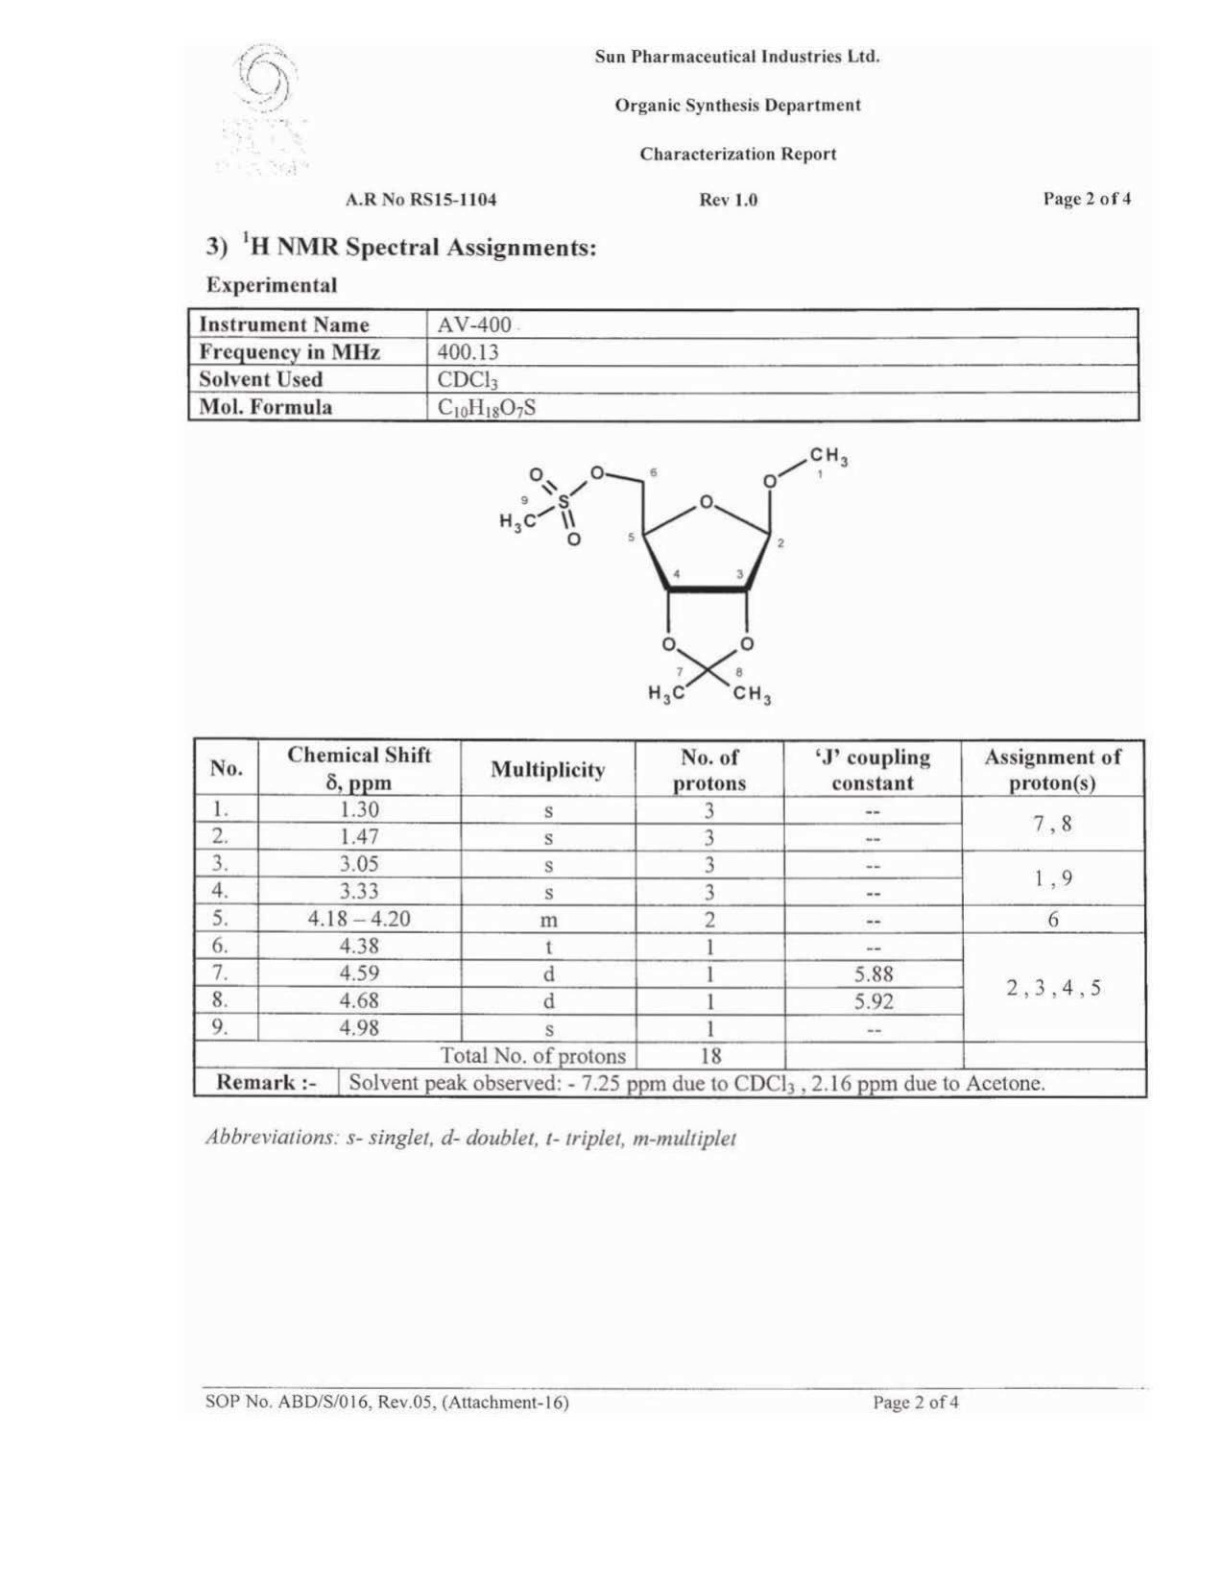full_lined: (186, 305, 1140, 423)
merged_cells: (192, 737, 1148, 1100)
